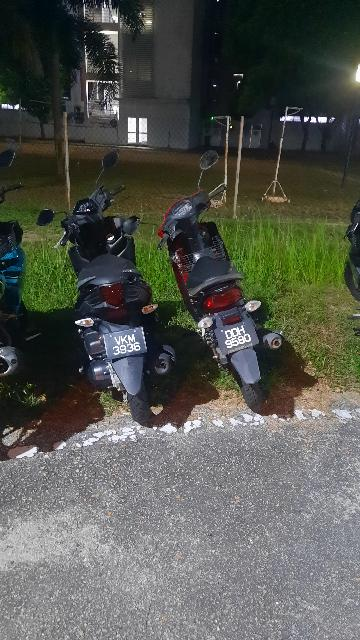License_Plate: (213, 312, 278, 366), (96, 323, 158, 366)
motorcycle: (152, 140, 308, 415), (37, 143, 173, 429)
